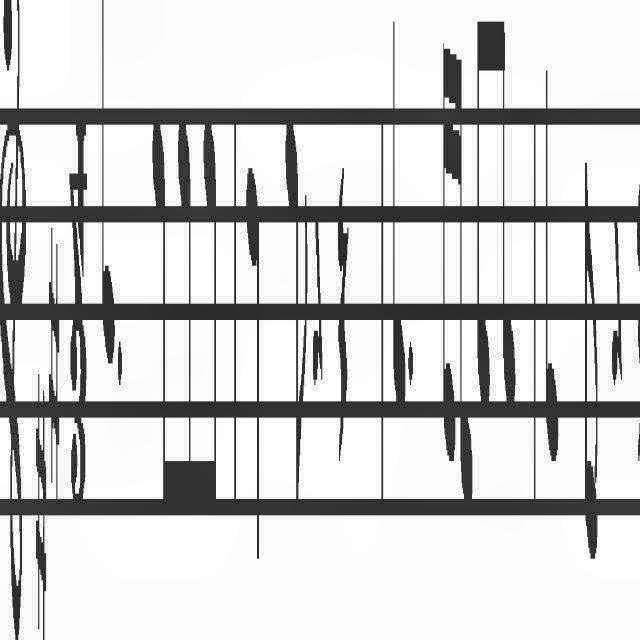Bass-clef: (0, 0, 28, 640)
Diez: (48, 236, 61, 504), (34, 380, 46, 640)
Eighth-note: (492, 0, 516, 418), (286, 102, 310, 510), (175, 105, 195, 523), (198, 115, 218, 533), (153, 112, 169, 532), (476, 3, 492, 421), (584, 150, 600, 568)
Eighth-rest: (312, 194, 324, 390), (612, 198, 622, 392)
Quarter-note: (242, 162, 262, 574), (544, 61, 560, 466), (99, 0, 115, 380), (392, 3, 406, 424)
Quarter-rest: (337, 157, 348, 479), (636, 158, 640, 466)
Sixteenth-note: (455, 6, 473, 510), (440, 26, 456, 467)
